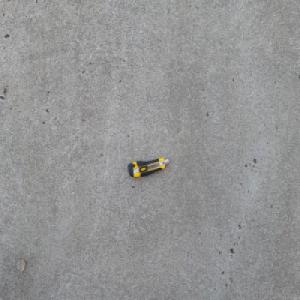Cutter: (127, 157, 170, 178)
